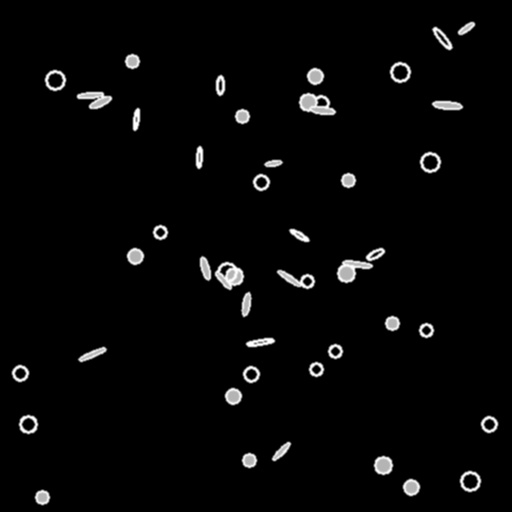pseudomonas: (431, 26, 453, 50), (78, 346, 106, 362), (277, 269, 301, 287), (213, 270, 233, 290), (272, 441, 290, 461), (89, 94, 111, 110), (432, 100, 462, 110), (199, 256, 211, 280), (457, 20, 475, 36), (289, 228, 309, 242), (246, 337, 274, 347), (309, 105, 335, 115), (366, 247, 384, 261), (241, 292, 251, 316), (342, 260, 372, 268), (77, 91, 103, 99), (132, 109, 140, 129), (216, 76, 224, 94), (196, 146, 202, 168), (265, 159, 281, 167)
synechocystis: (391, 63, 409, 81), (46, 71, 64, 89), (461, 472, 479, 490), (218, 263, 236, 281), (421, 153, 439, 171), (375, 457, 391, 473), (226, 268, 242, 284), (300, 94, 316, 110), (20, 416, 36, 432), (338, 265, 354, 281), (128, 249, 142, 263), (226, 389, 240, 403), (254, 175, 268, 189), (314, 96, 328, 110), (404, 480, 418, 494), (482, 417, 496, 431), (244, 367, 258, 381), (13, 366, 27, 380), (308, 69, 322, 83), (154, 226, 166, 238), (386, 317, 398, 329), (301, 275, 313, 287), (310, 363, 322, 375), (126, 55, 138, 67), (420, 324, 432, 336), (236, 110, 248, 122), (342, 174, 354, 186), (329, 345, 341, 357), (36, 491, 48, 503), (243, 454, 255, 466)
